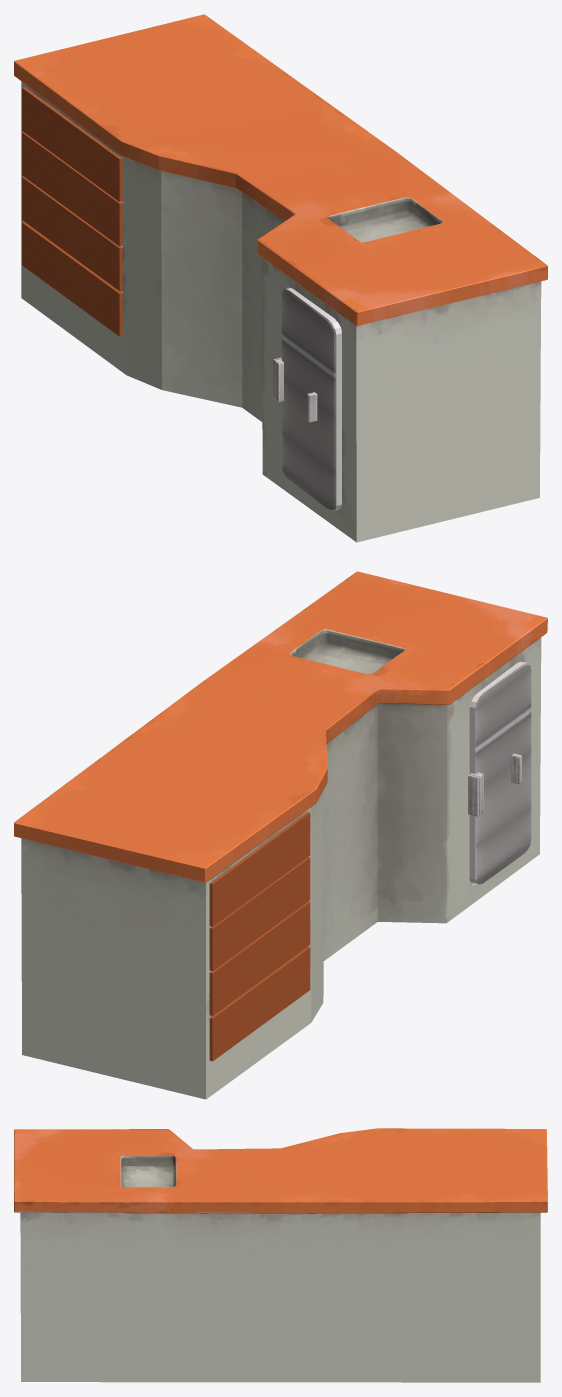
File: Desk.fbx
The picture shows the model from 3 angles, top to bottom: view 1: azimuth 30°, elevation 25°; view 2: azimuth 150°, elevation 25°; view 3: azimuth 270°, elevation 25°; orthographic projection. The views are drawn at different scales.
Parts seen in each view (by area): view 1: Desk_nieuw, Kluisdeur, BureauLa, BureauLa_03, BureauLa_02, BureauLa_01; view 2: Desk_nieuw, Kluisdeur, BureauLa, BureauLa_03, BureauLa_02, BureauLa_01; view 3: Desk_nieuw.
Part boxes in pixels (x1,y1,x2,y2): Desk_nieuw: (14,14,547,542); Kluisdeur: (273,288,341,510); BureauLa: (22,87,122,201); BureauLa_03: (22,221,122,336); BureauLa_02: (22,176,122,291); BureauLa_01: (22,132,122,246); Desk_nieuw: (14,571,547,1099); Kluisdeur: (468,661,531,884); BureauLa: (209,812,310,926); BureauLa_03: (209,946,310,1061); BureauLa_02: (209,901,310,1015); BureauLa_01: (209,857,310,971); Desk_nieuw: (14,1128,547,1382).
Size of the model in its own units: 93.67 by 104 by 273.
